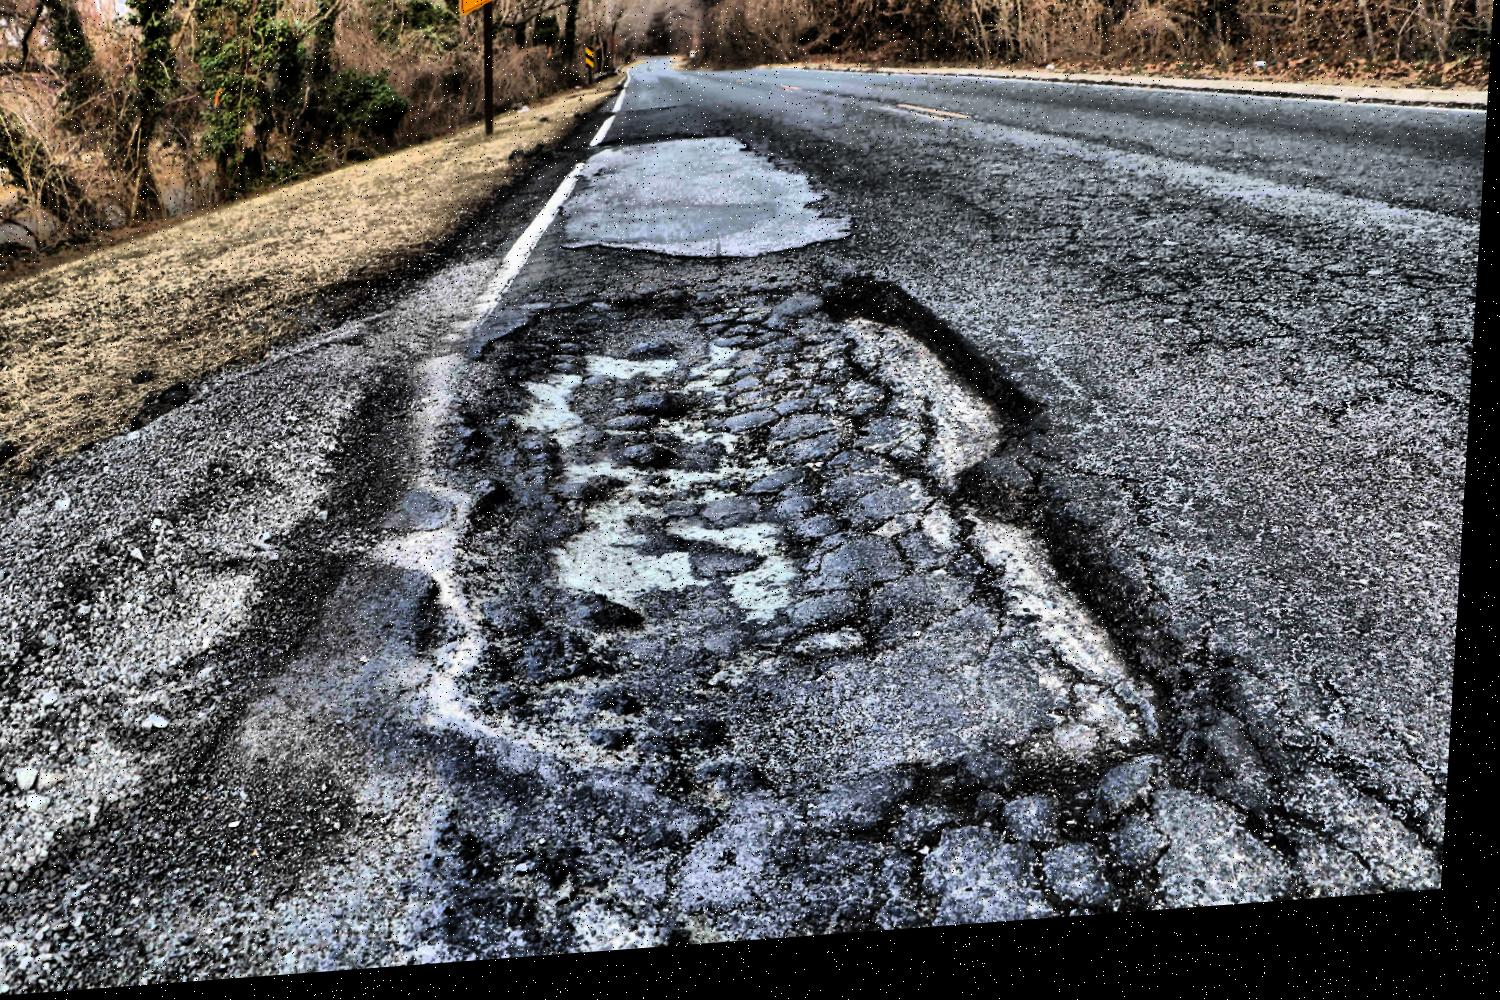pothole: (426, 260, 1058, 972)
